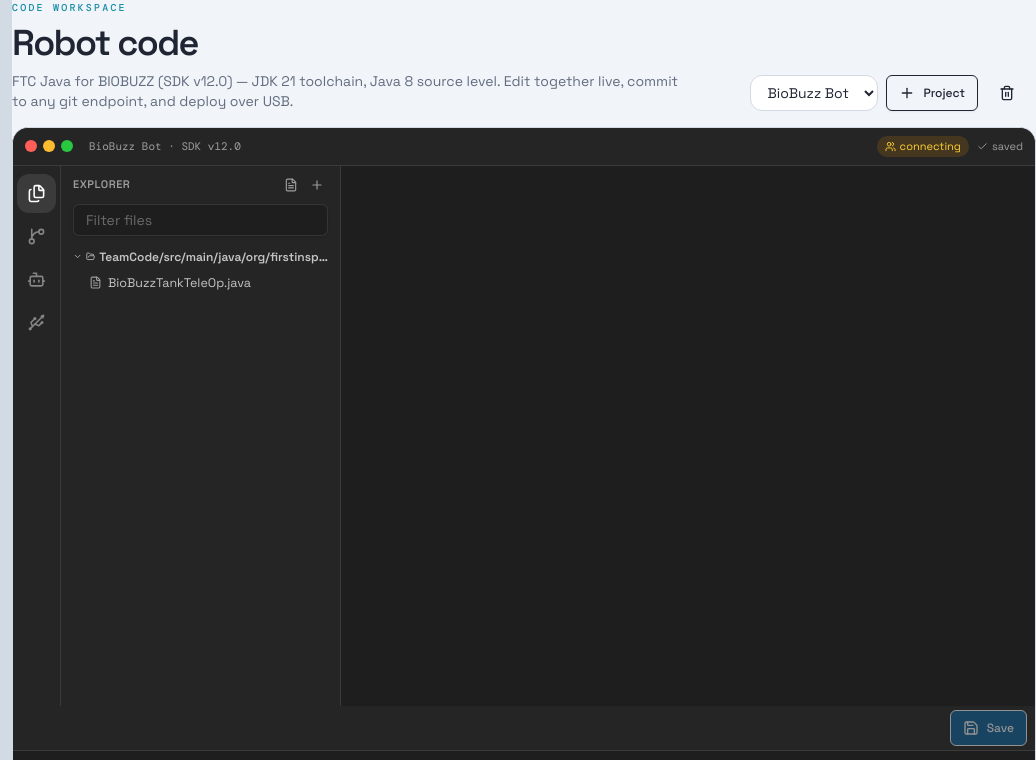
Test: code workspace › shows the file tree, side tabs, and deploy actions
expect the text with test id "code-project-name" shows "BioBuzz Bot": met, box [89,139,162,153]
expect the element with test id "code-file-TeamCode/src/main/java/org/firstinspires/ftc/teamcode/BioBuzzTankTeleOp.java" is shown: met, box [81,270,336,296]
Click the button with test id "code-side-deploy" at [36, 322], box [17,302,56,342]
(page scrolled)
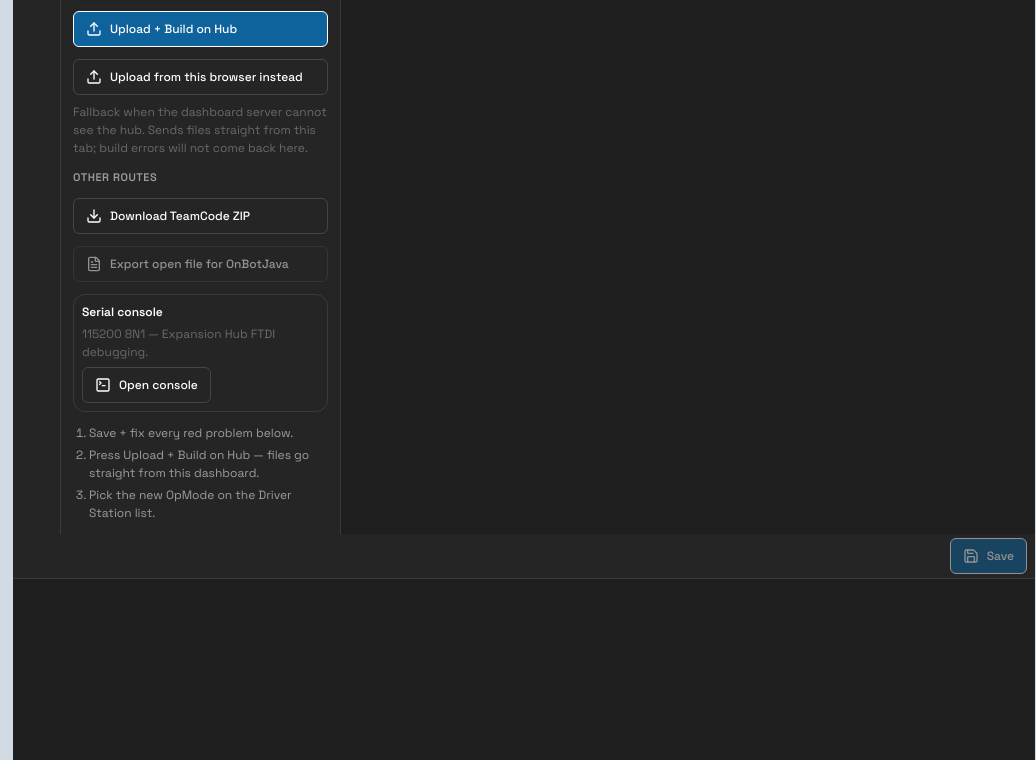
expect the button with test id "code-deploy-zip" is shown: met, box [73,198,328,234]
expect the button with test id "code-serial-toggle" is shown: met, box [82,366,211,402]
